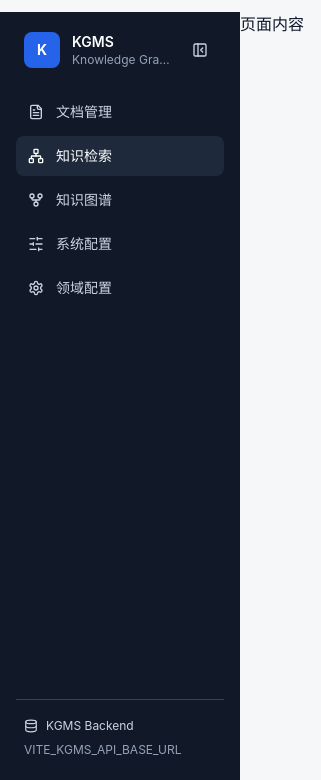
Test: AppShell › collapses and expands the desktop sidebar while keeping navigation available
The width and height of the screenshot is (321, 780).
Expected: the text "KGMS" is shown, [72,33,114,50]
Expected: the text "Knowledge Graph" is shown, [72,52,172,68]
Click the button named "收起侧边栏": (200, 50) [184,34,216,66]
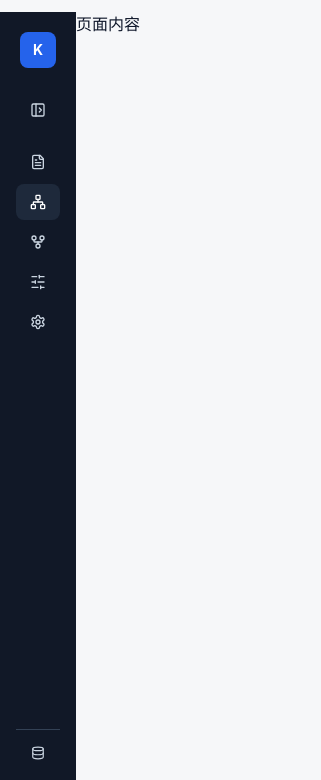
Expected: the button named "知识检索" is shown, [16,184,60,220]
Now the text "Knowledge Graph" is gone
Now the text "知识检索" is gone
Click the button named "文档管理": (38, 162) [16,144,60,180]
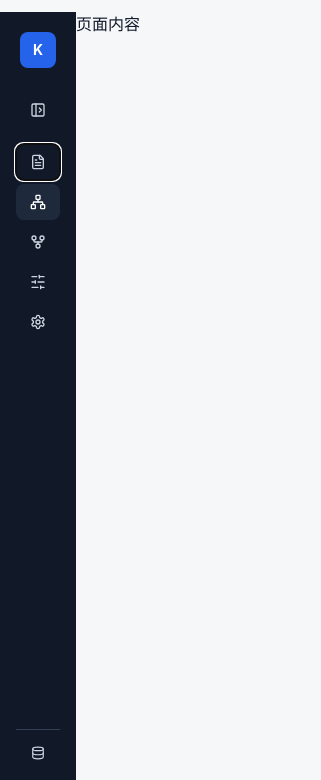
Click the button named "展开侧边栏": (38, 110) [16,92,60,128]
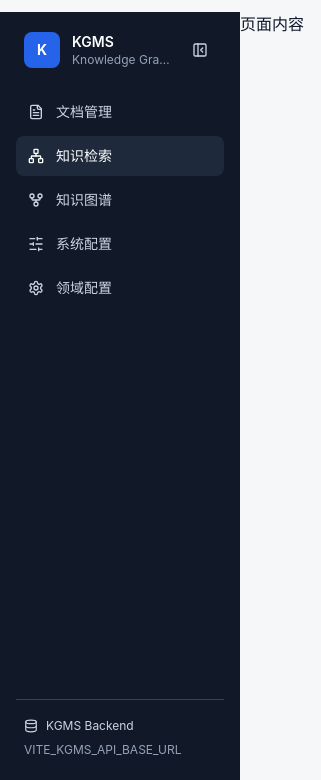
Now the text "Knowledge Graph" is shown, box [72,52,172,68]
Now the text "知识检索" is shown, box [56,146,112,166]
